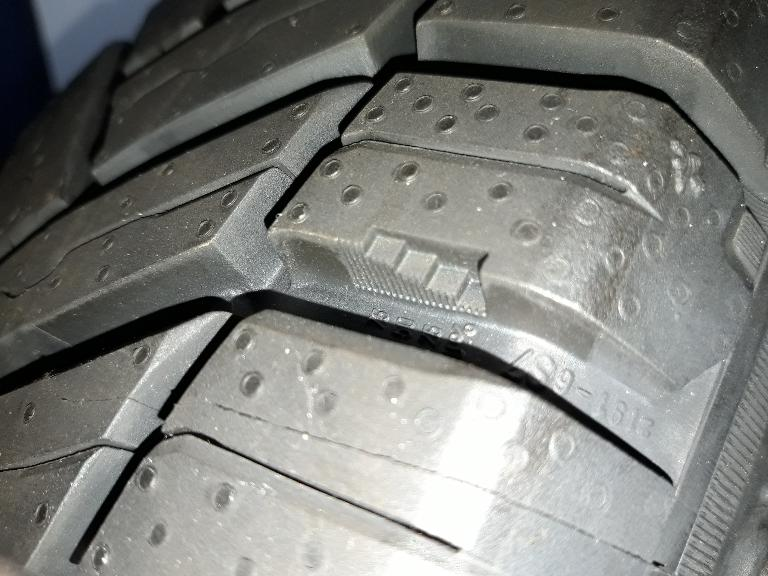temoin:100: (337, 223, 492, 322)
